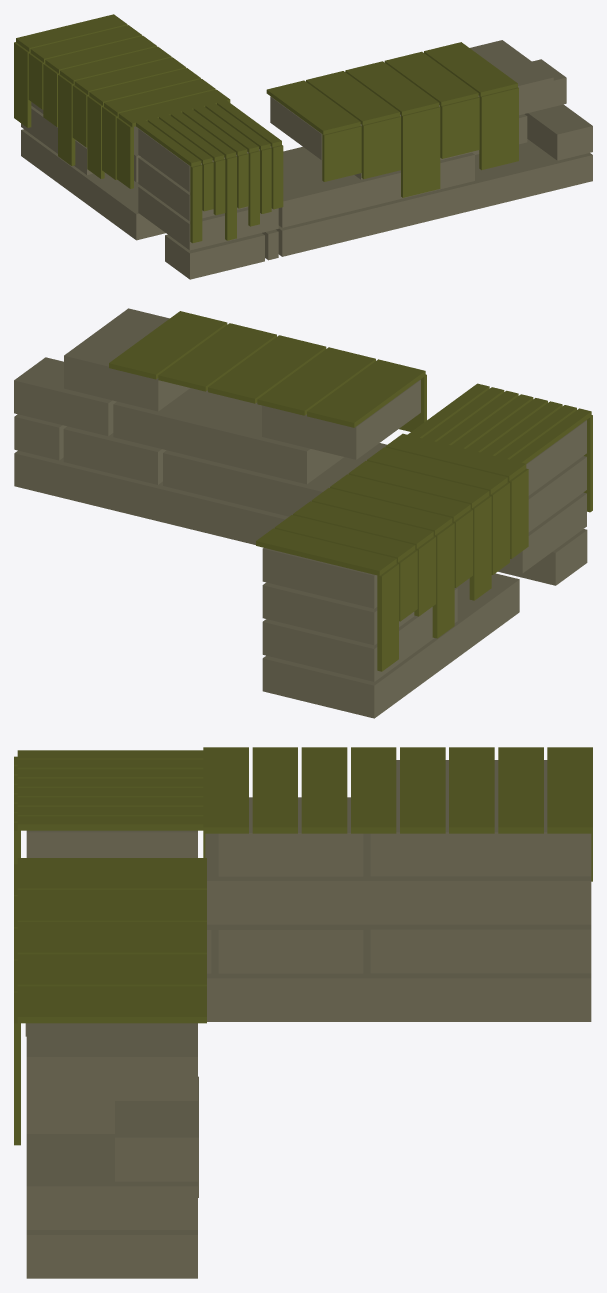
File: SM_PretilEsquinaPaso_v4_Red_e1_Danado_LOD1.fbx
The picture shows the model from 3 angles, top to bottom: view 1: azimuth 30°, elevation 25°; view 2: azimuth 150°, elevation 25°; view 3: azimuth 270°, elevation 25°; orthographic projection. The views are drawn at different scales.
Visible parts, largest first — view 1: SM_pretil_azotea_v57_LOD1; view 2: SM_pretil_azotea_v57_LOD1; view 3: SM_pretil_azotea_v57_LOD1.
Boxes of the visible parts, x1,y1,x2,y2 form: SM_pretil_azotea_v57_LOD1: (14, 14, 592, 279); SM_pretil_azotea_v57_LOD1: (14, 308, 592, 718); SM_pretil_azotea_v57_LOD1: (14, 747, 592, 1278).
Bounding box in the file's own units: 4.43 × 1.23 × 3.24.
